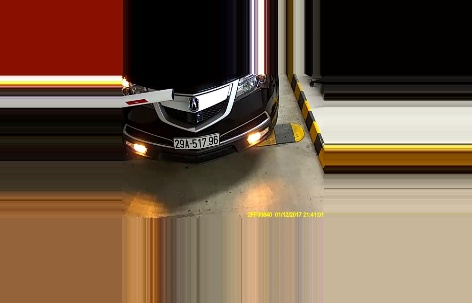plate: (172, 133, 218, 150)
